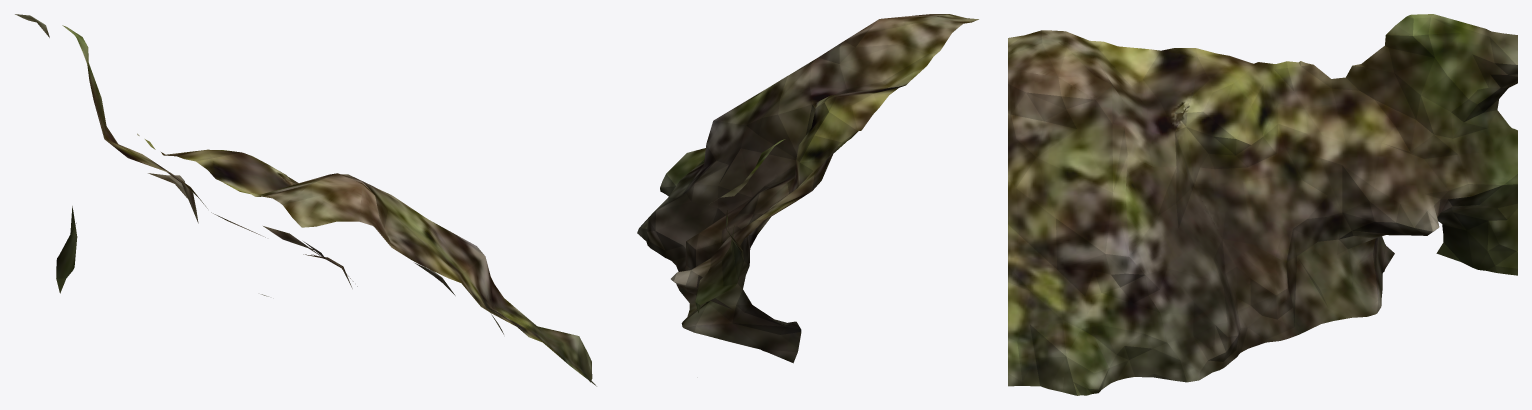
3 renders of one model, left to right at view 1: azimuth 30°, elevation 25°; view 2: azimuth 150°, elevation 25°; view 3: azimuth 270°, elevation 25°, orthographic. The views are drawn at different scales.
Size of the model in its own units: 0.5538 by 0.4341 by 0.8373.
2 materials, 2 textured.
